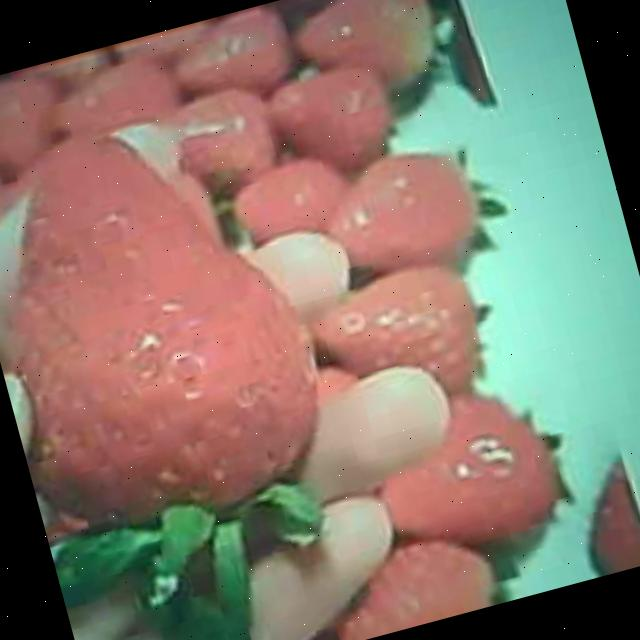strawberry: (0, 95, 352, 558)
